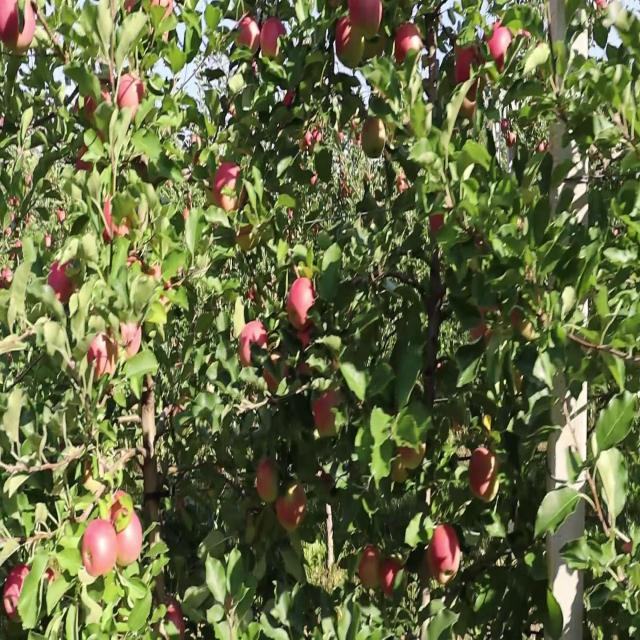apple: (428, 526, 463, 585), (84, 519, 116, 580), (212, 163, 247, 217), (468, 447, 500, 503), (114, 511, 144, 569), (0, 7, 36, 55), (288, 277, 319, 329), (276, 483, 308, 533), (240, 319, 269, 370), (4, 568, 31, 622), (336, 21, 364, 73), (312, 391, 342, 439), (116, 78, 147, 123), (512, 298, 544, 341), (88, 85, 112, 142), (348, 0, 384, 37), (88, 334, 115, 382), (104, 199, 132, 245), (396, 21, 424, 66), (396, 433, 427, 473), (456, 42, 483, 87), (256, 455, 280, 505), (84, 85, 113, 126), (488, 28, 513, 75), (12, 7, 36, 55), (260, 21, 288, 62), (48, 263, 74, 306), (108, 490, 134, 530), (120, 319, 144, 361), (236, 14, 260, 55), (364, 120, 387, 162), (264, 355, 288, 395), (380, 561, 404, 599), (296, 327, 314, 377), (236, 213, 257, 254), (360, 547, 380, 590), (512, 305, 535, 341), (364, 28, 387, 62), (152, 1, 175, 34), (164, 604, 185, 638), (460, 85, 478, 123), (76, 92, 99, 119), (76, 142, 95, 174), (516, 28, 535, 60), (152, 0, 175, 25), (472, 312, 491, 341), (428, 213, 447, 238), (80, 462, 97, 489), (144, 497, 160, 524), (396, 170, 410, 196), (56, 206, 68, 226), (4, 270, 14, 292), (252, 63, 260, 82)
